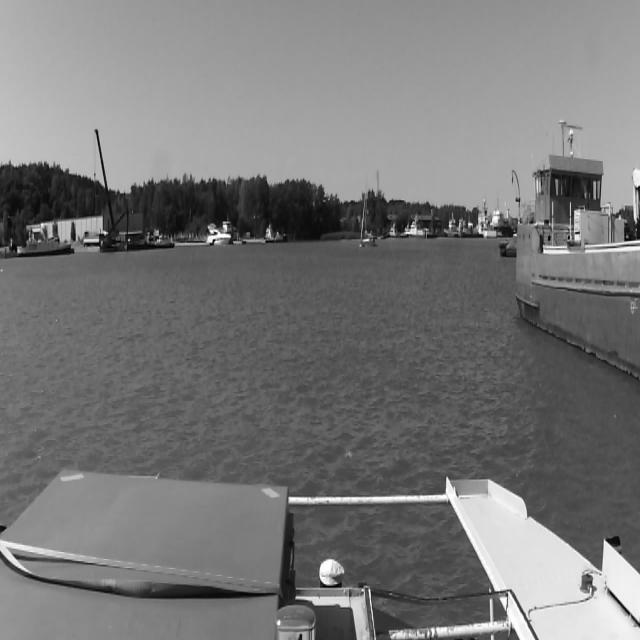buoy: (426, 231, 428, 241)
ship: (512, 130, 640, 385), (6, 228, 74, 254), (356, 193, 376, 247), (406, 222, 430, 238), (206, 228, 230, 242), (360, 236, 378, 247), (159, 236, 173, 246), (390, 227, 400, 236)
